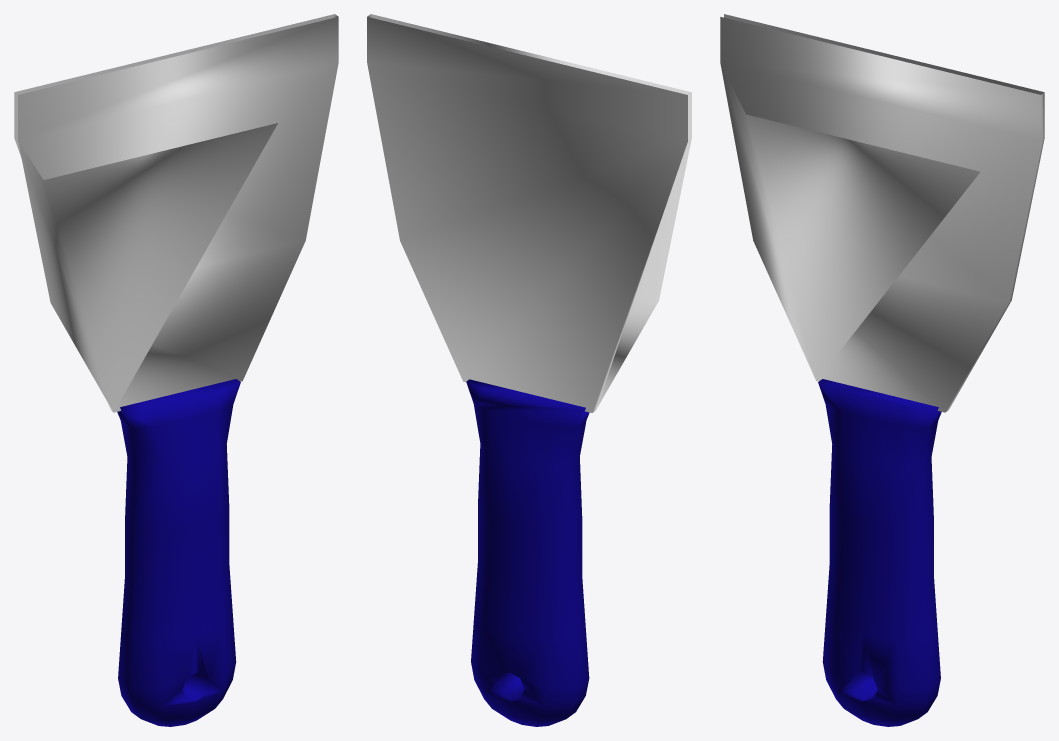
File: tools.fbx
3 views of the same model, side by side, from view 1: azimuth 30°, elevation 25°; view 2: azimuth 150°, elevation 25°; view 3: azimuth 330°, elevation 25° (orthographic).
Visible parts, largest first — view 1: tools.spatula; view 2: tools.spatula; view 3: tools.spatula.
Part boxes in pixels (box(x1,y1,x2,y2)): tools.spatula: box(14, 14, 338, 726); tools.spatula: box(367, 14, 691, 726); tools.spatula: box(720, 14, 1044, 726).
Bounding box in the file's own units: 31.62 × 62.58 × 6.82.
